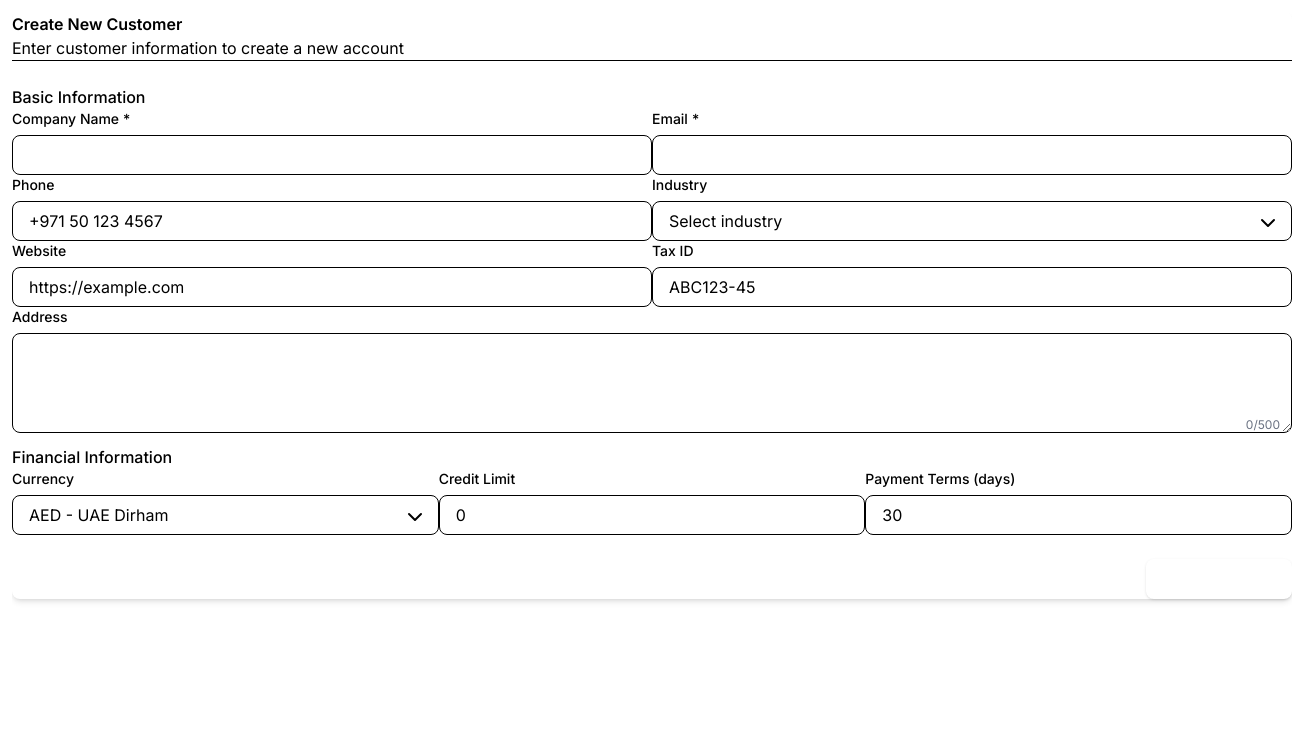
Test case: CustomerForm › displays API error messages
The image size is (1304, 732).
Note: Fill minimum required fields
Step 1. Type "Test Company" into the field labelled "Company Name*" → {"x": 332, "y": 155}, box 12,135 -> 652,175
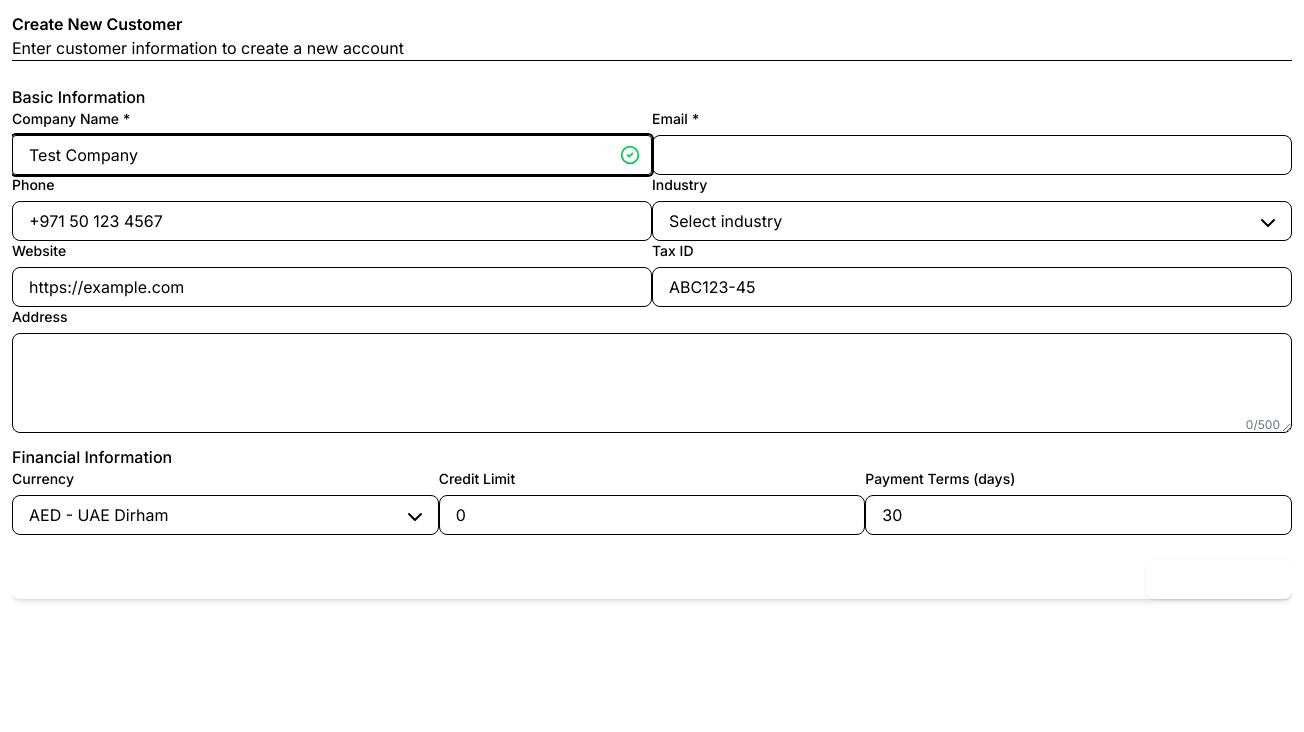
Step 2. Type "existing@company.com" into the field labelled "Email*" → {"x": 972, "y": 155}, box 652,135 -> 1292,175
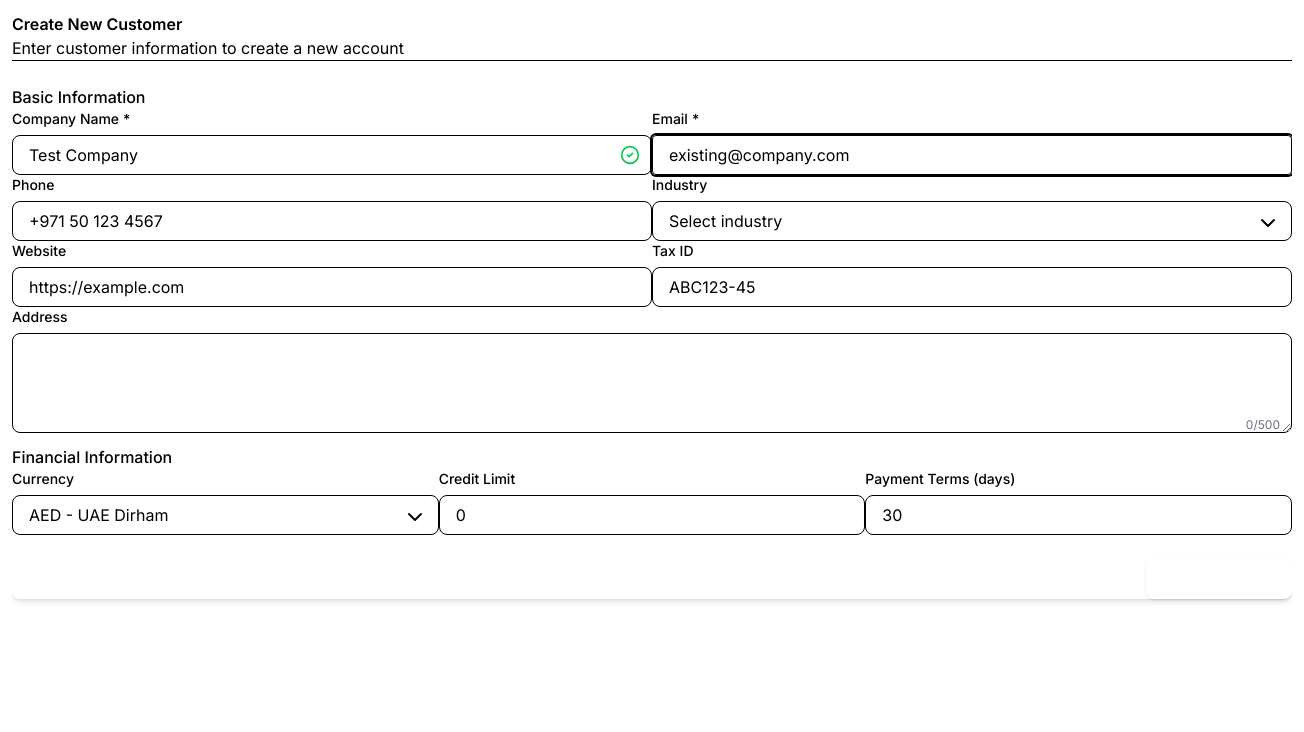
Note: Submit the form
Step 3. Click the button "Create Customer" → {"x": 1219, "y": 579}, box 1146,559 -> 1292,599
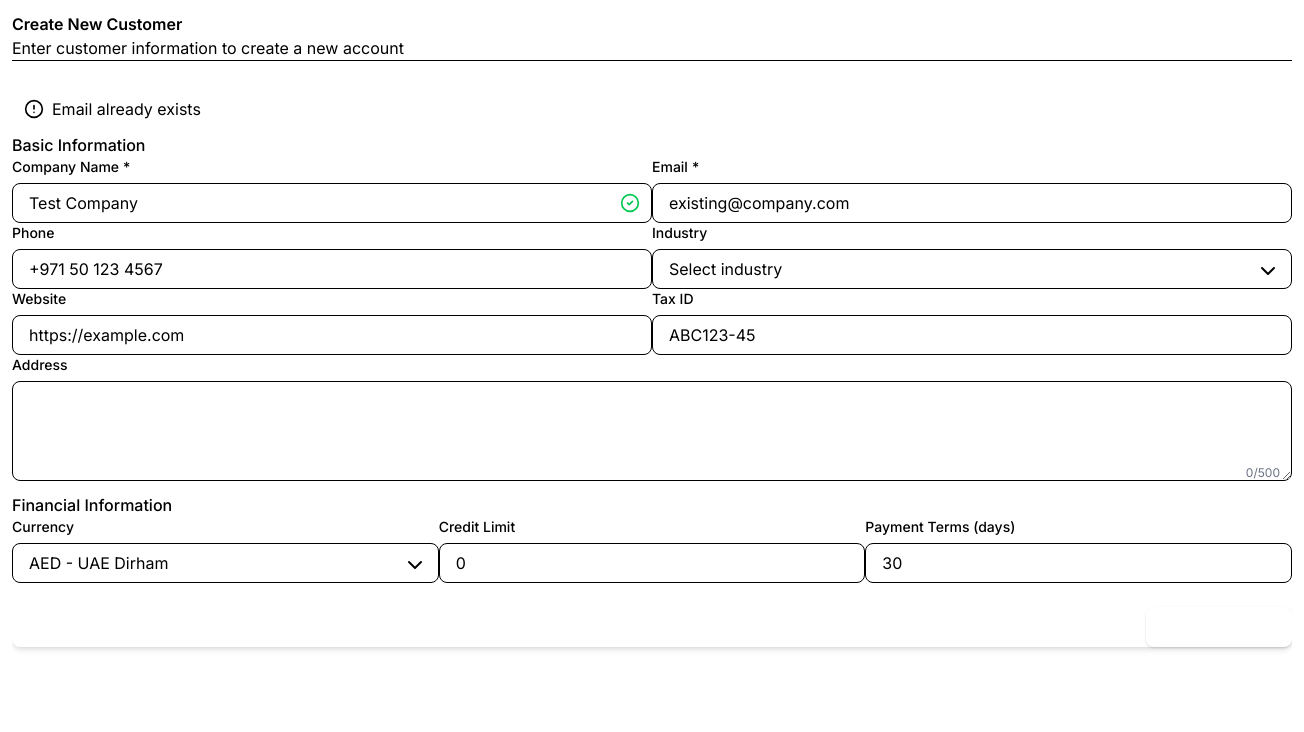
Expected: the text "Email already exists" is shown, 52,97 -> 201,121
